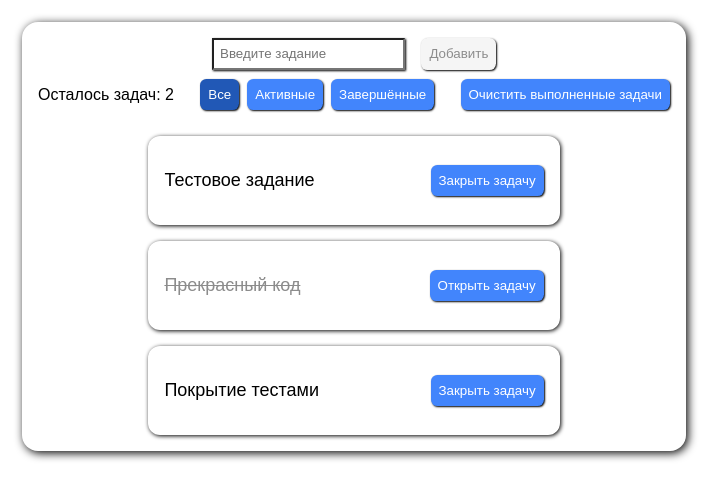
Test: Tasks test › Testing task opening
Click the button "Открыть задачу" at coordinates (487, 285), box [430,270,544,301]
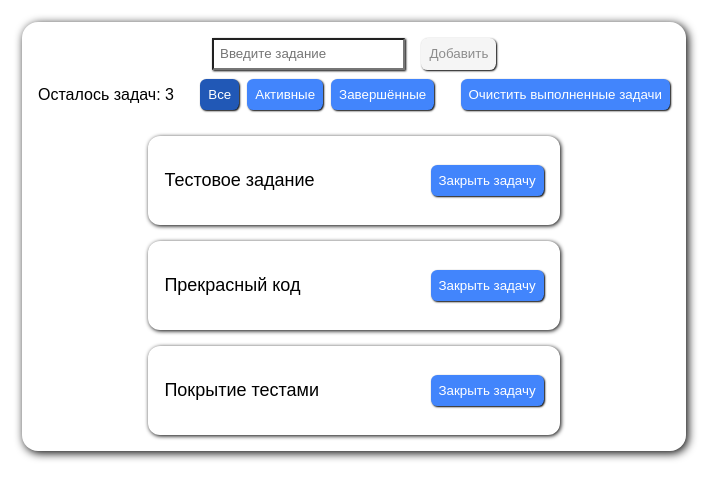
expect the button "Открыть задачу" is gone: met
